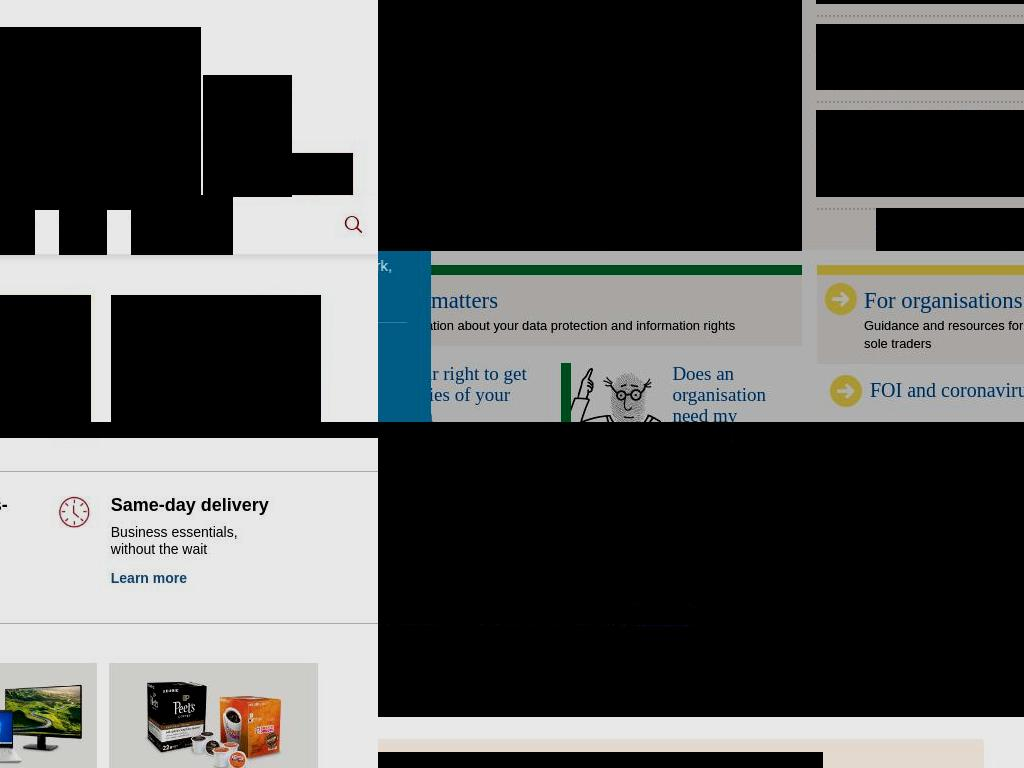button: (378, 0, 802, 251), (378, 265, 802, 347), (111, 295, 321, 422), (817, 265, 1024, 365), (816, 110, 1024, 197), (816, 24, 1024, 90), (0, 295, 91, 422), (822, 369, 1024, 422), (876, 208, 1024, 251), (131, 195, 233, 255), (378, 606, 692, 624), (59, 195, 107, 255), (110, 564, 188, 593), (0, 195, 35, 255)
field: (378, 477, 824, 523)
heading: (378, 567, 984, 590), (816, 110, 1024, 174), (378, 286, 795, 314), (378, 158, 791, 186), (816, 24, 1024, 67), (401, 363, 546, 422), (672, 363, 802, 422), (378, 606, 636, 624), (864, 286, 1024, 314), (870, 379, 1024, 403), (635, 609, 691, 625)
iframe: (203, 75, 292, 197), (220, 153, 353, 195)
image: (378, 0, 802, 251), (0, 27, 201, 210), (111, 295, 321, 422), (108, 663, 319, 768), (378, 422, 730, 455), (0, 295, 91, 422), (0, 663, 97, 768), (571, 363, 661, 422), (39, 496, 93, 542), (825, 289, 857, 316), (830, 381, 862, 408)
link: (378, 196, 791, 239), (378, 316, 795, 335), (864, 316, 1024, 353), (816, 71, 1024, 90), (816, 178, 1024, 197)
text: (378, 752, 823, 768), (110, 524, 283, 564), (110, 496, 283, 524), (876, 219, 1024, 237)
